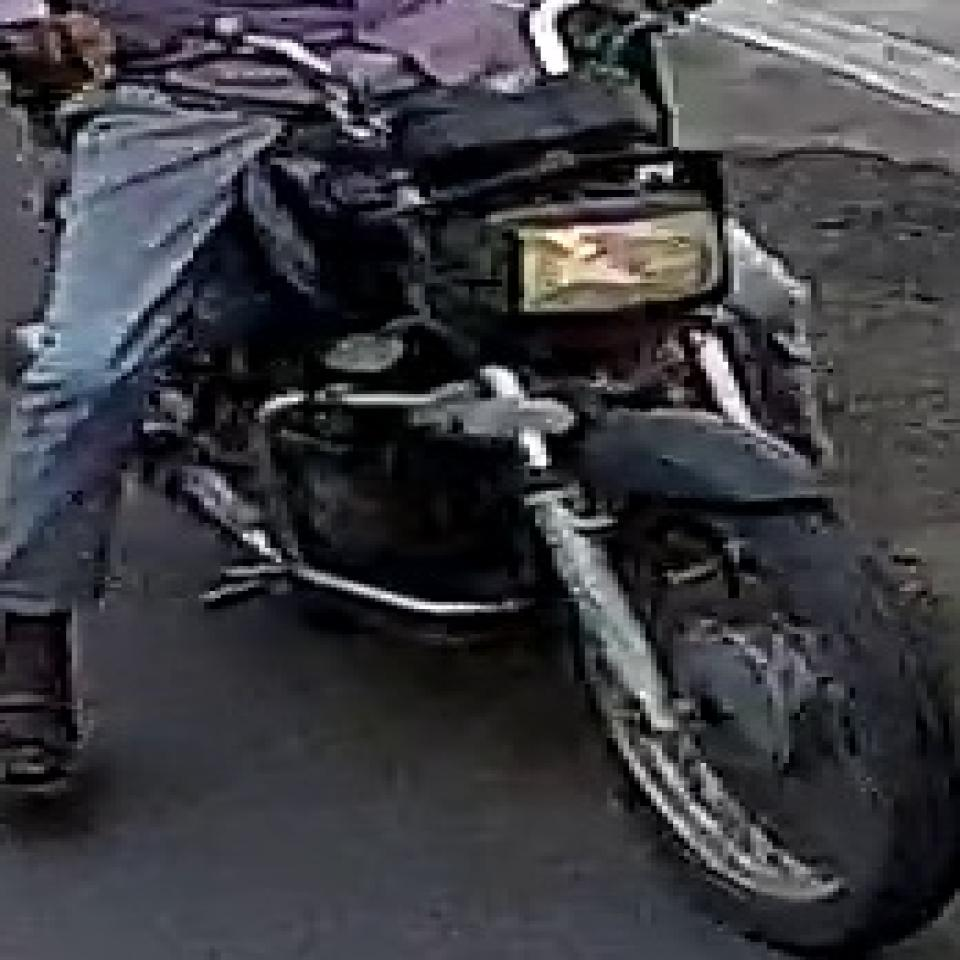head_light: (517, 206, 727, 317)
